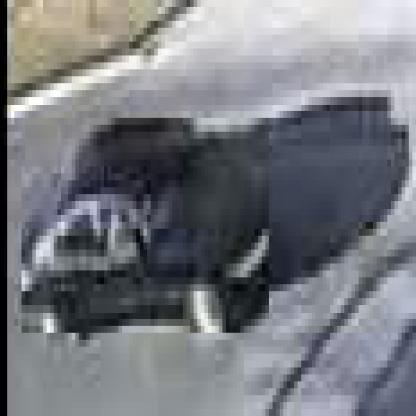car: (19, 119, 270, 341)
